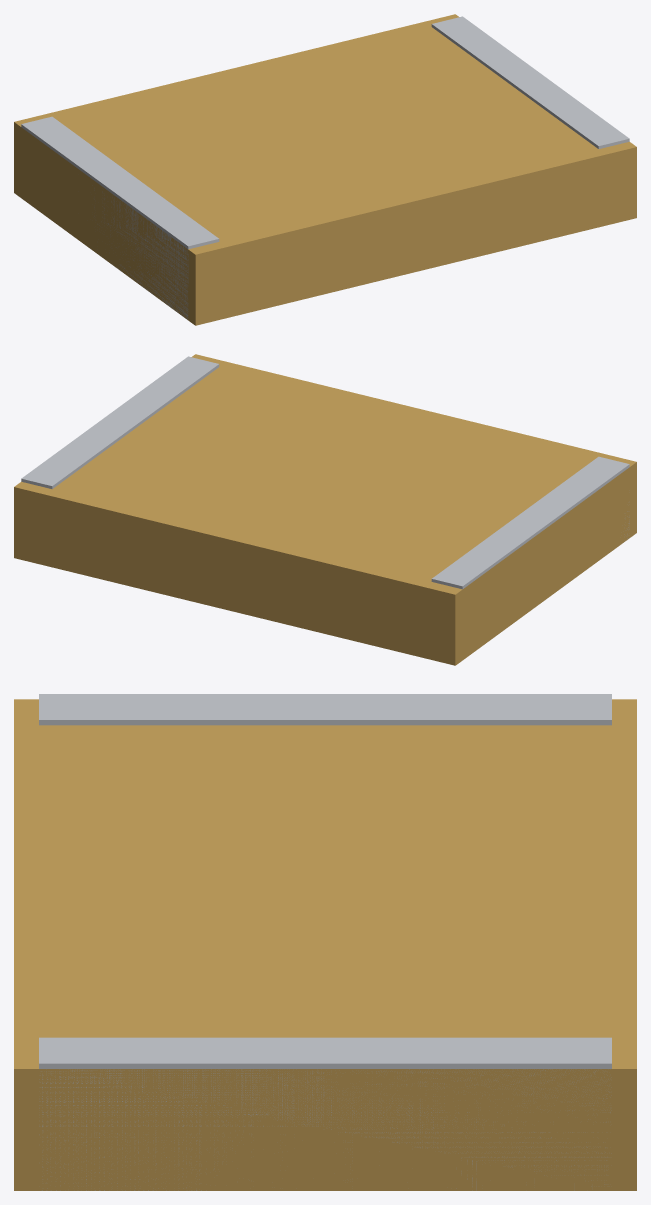
File: ptc-fuse-1812.source.glb
The picture shows the model from 3 angles, top to bottom: view 1: azimuth 30°, elevation 25°; view 2: azimuth 150°, elevation 25°; view 3: azimuth 270°, elevation 25°; orthographic projection. The views are drawn at different scales.
Visible parts, largest first — view 1: body, lead-1, lead-2; view 2: body, lead-1, lead-2; view 3: body, lead-2, lead-1.
Boxes of the visible parts, bbox=[...] form: body: bbox=[14, 14, 636, 325]; lead-1: bbox=[21, 116, 219, 318]; lead-2: bbox=[431, 16, 629, 148]; body: bbox=[14, 354, 636, 665]; lead-1: bbox=[431, 456, 629, 589]; lead-2: bbox=[21, 356, 219, 488]; body: bbox=[14, 699, 636, 1190]; lead-2: bbox=[39, 1037, 611, 1190]; lead-1: bbox=[39, 694, 611, 725].
Bounding box in the file's own units: 0.00455 × 0.00073 × 0.00324.
